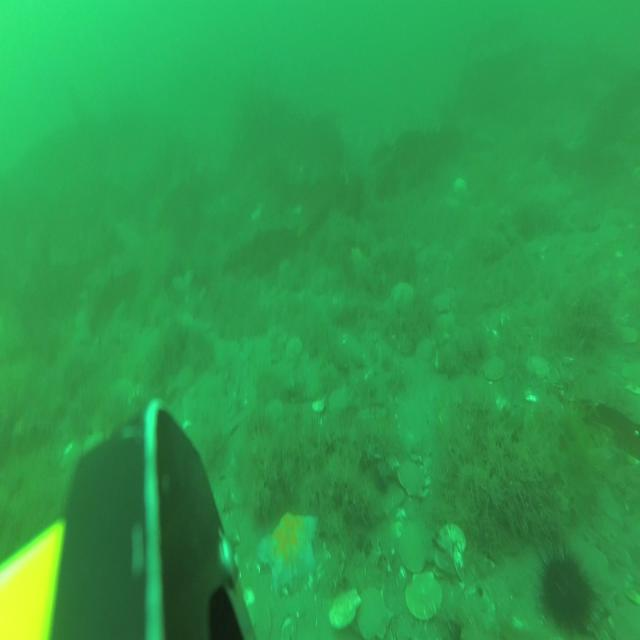echinus: (531, 525, 603, 640)
scallop: (396, 517, 435, 575), (402, 570, 443, 622), (356, 588, 394, 640), (435, 524, 466, 578), (328, 584, 362, 631), (396, 458, 427, 501), (326, 384, 354, 418), (481, 352, 506, 382), (264, 396, 283, 432), (526, 354, 550, 382), (414, 337, 437, 365), (285, 334, 303, 364), (430, 293, 453, 316)
starfish: (256, 511, 322, 595), (391, 278, 416, 310)
